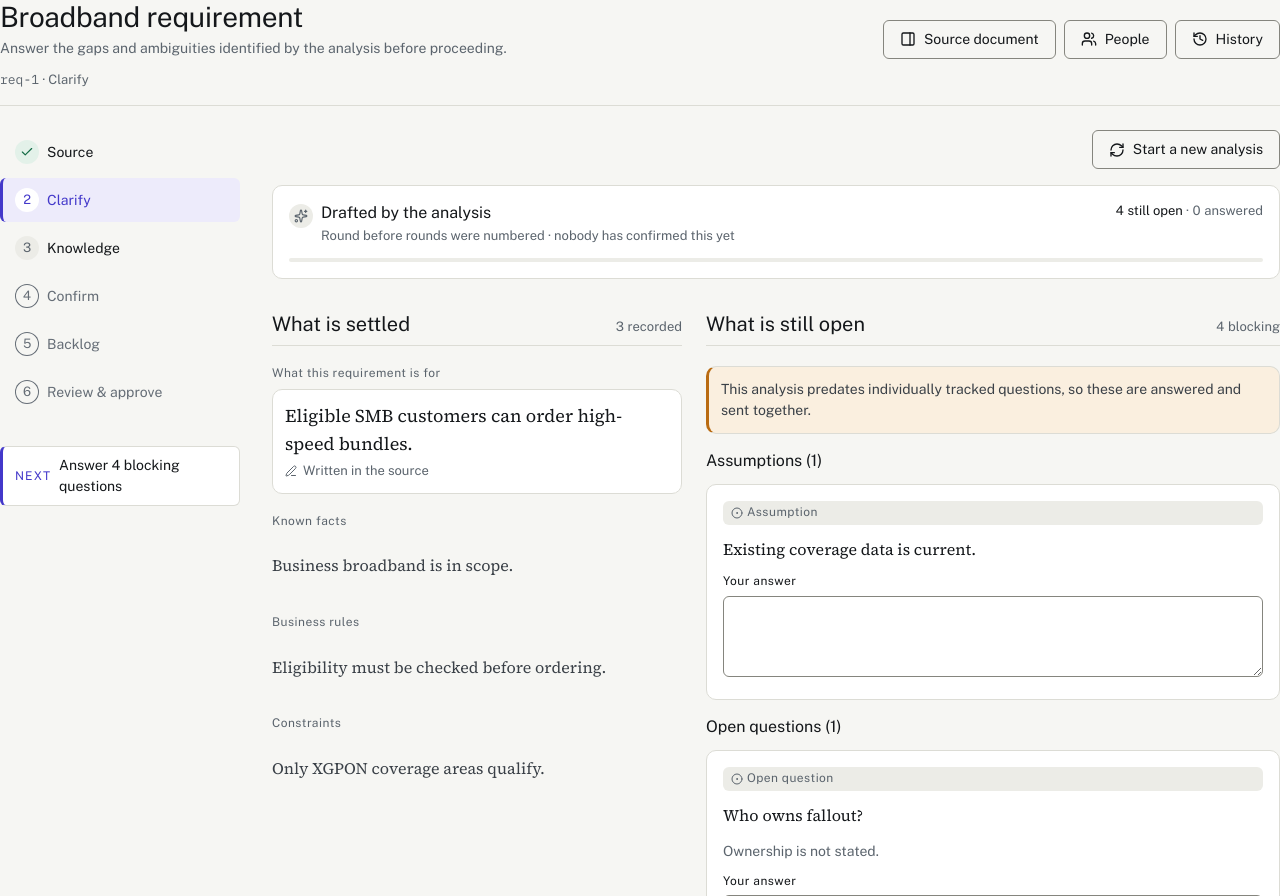
Test: Requirement workspace reads › confirms re-analysis without claiming an unloaded backlog count
Step 1. Click the button "Start a new analysis" → (1186, 150), box [1092,130,1279,169]
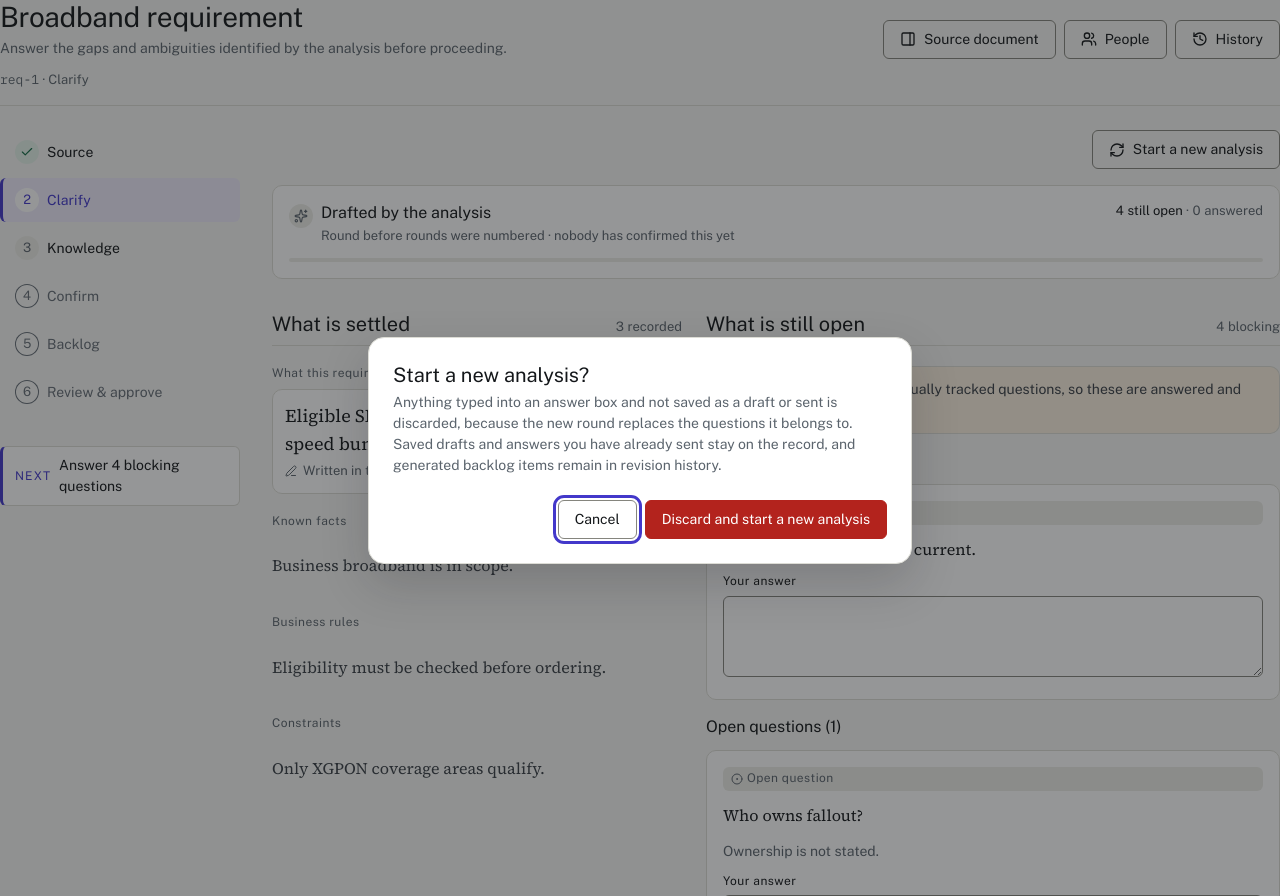
Check: the text "remain in revision history" is shown, box [393,394,855,472]
